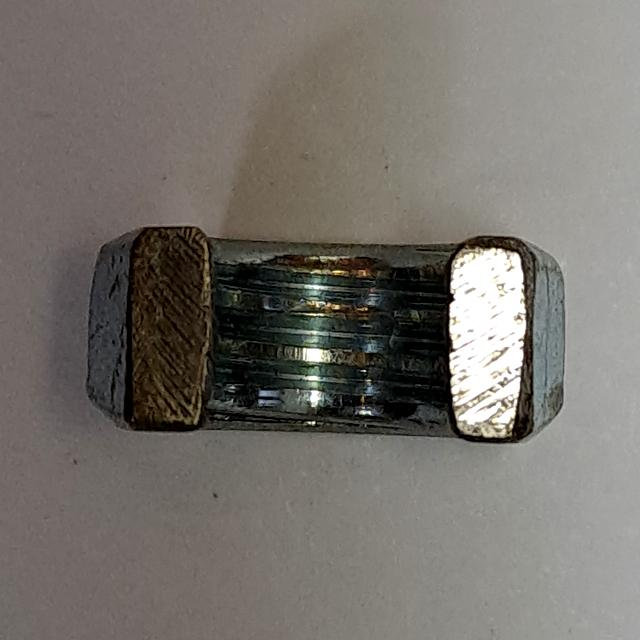Side-Fracture: (70, 192, 578, 484)
